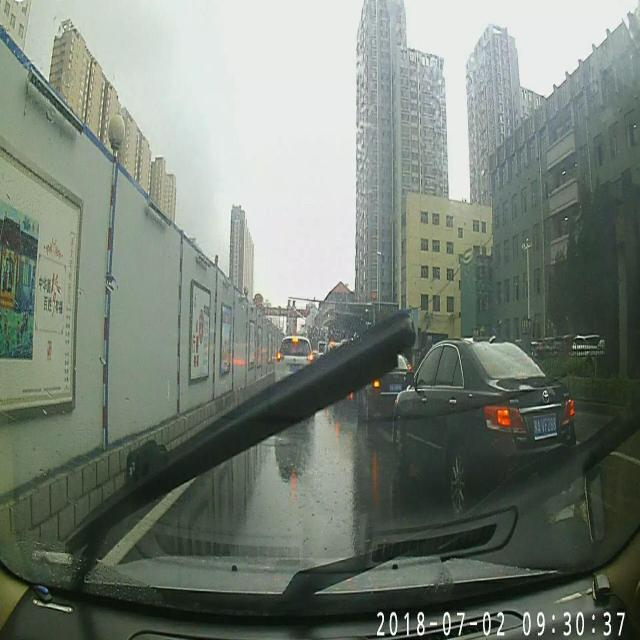car: (393, 338, 575, 514), (360, 354, 412, 424), (274, 338, 310, 378)
